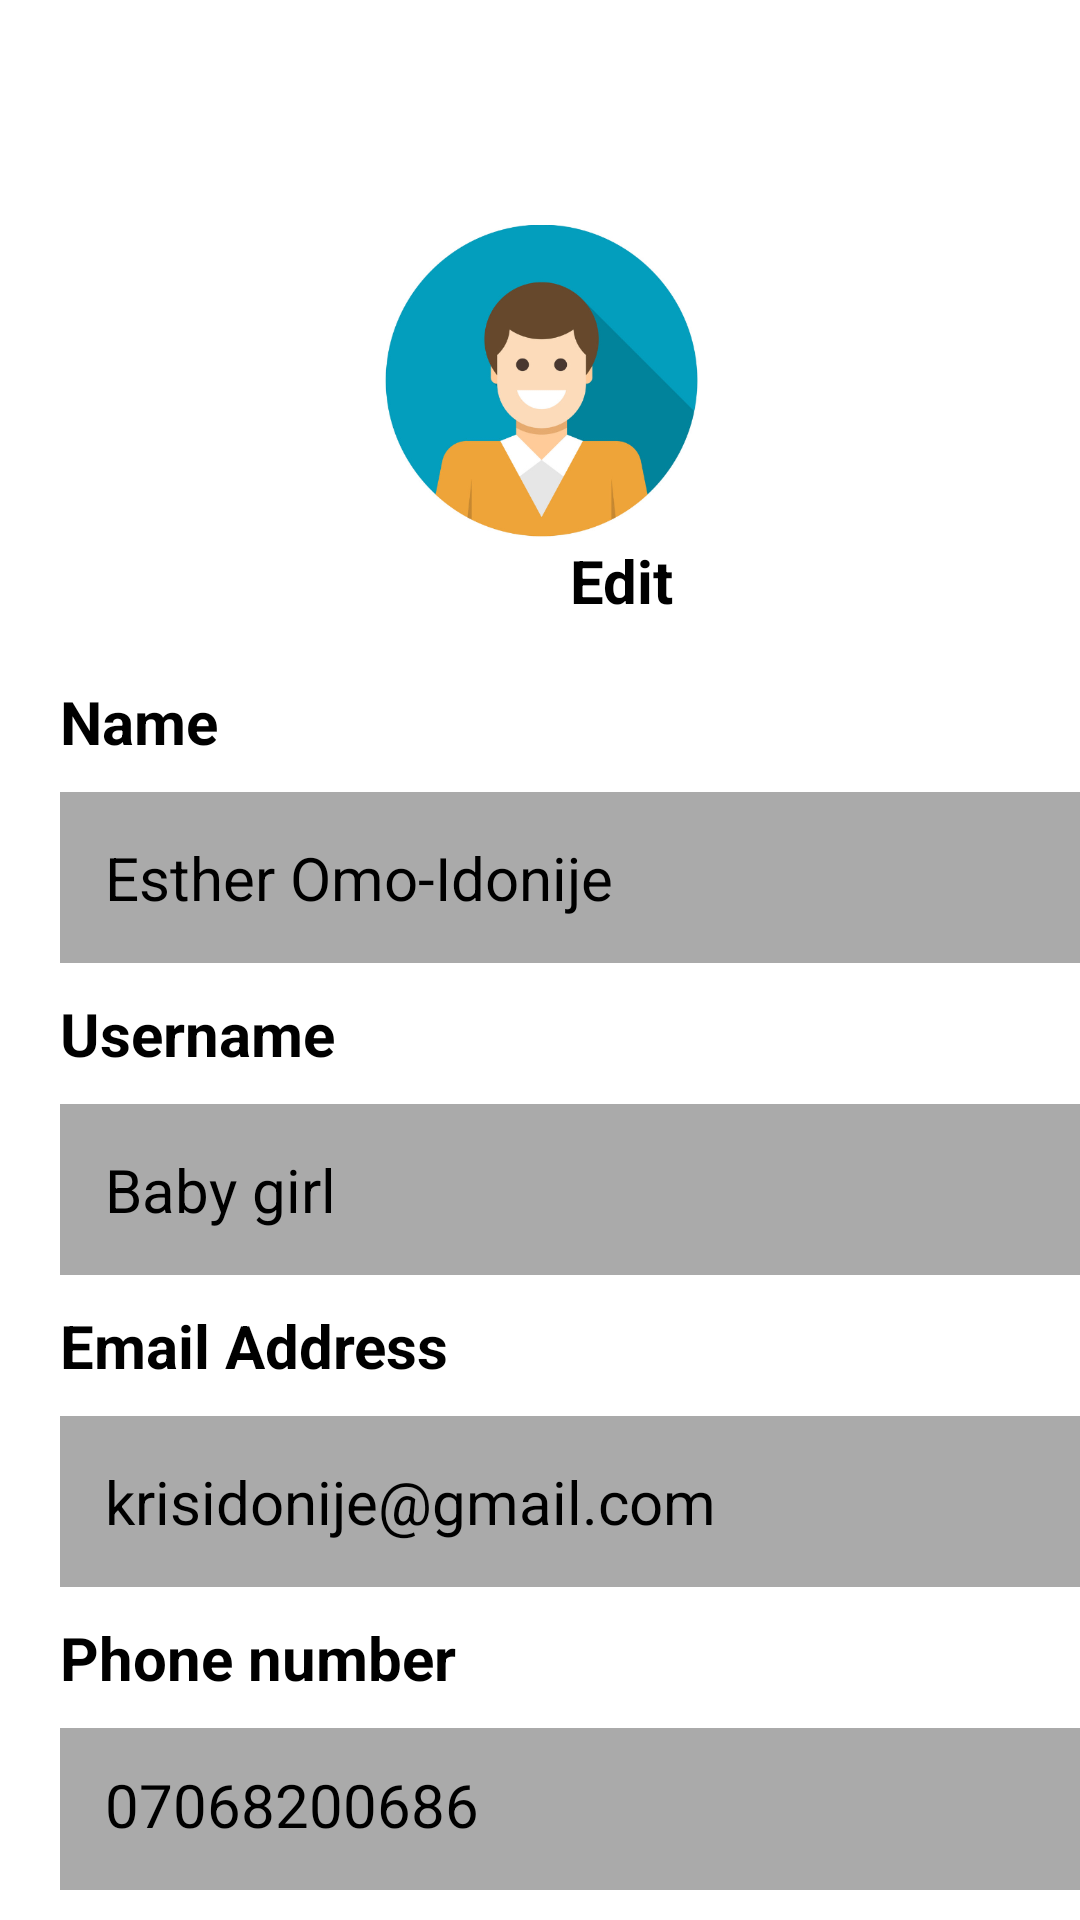

Where to tap for icons on this 1080×1920 app screen, as point (x, y):
profile: point (541, 381)
